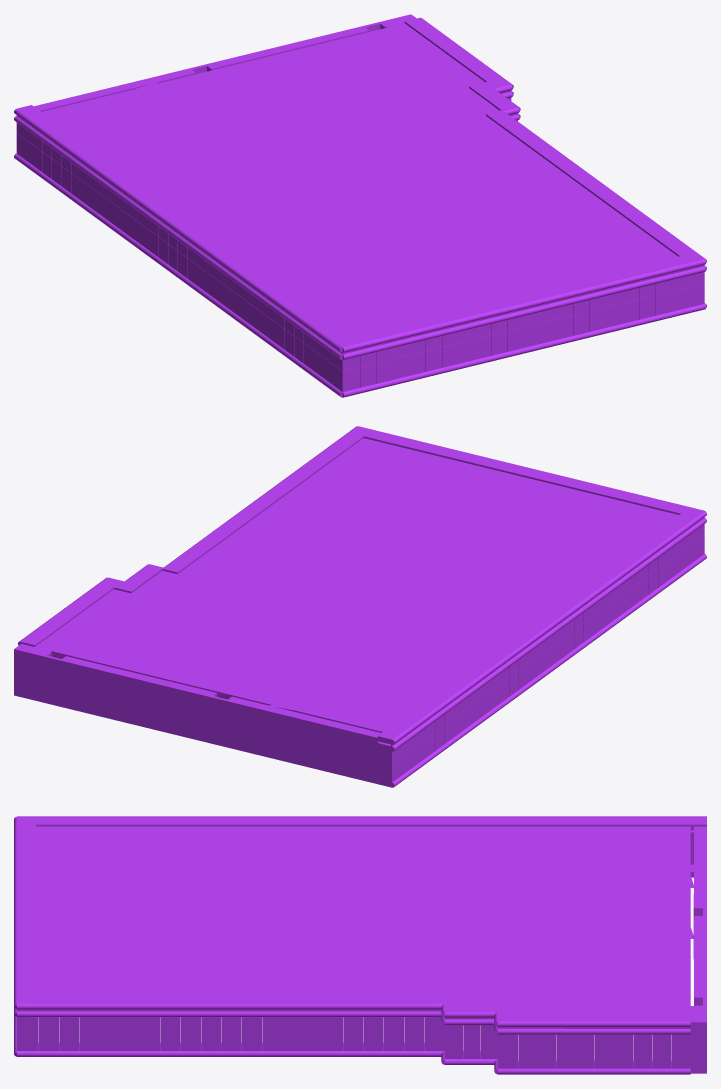
File: top.fbx
The picture shows the model from 3 angles, top to bottom: view 1: azimuth 30°, elevation 25°; view 2: azimuth 150°, elevation 25°; view 3: azimuth 270°, elevation 25°; orthographic projection. The views are drawn at different scales.
Parts seen in each view (by area): view 1: 物件_208, 物件_202, 物件_15, 物件_17, 物件_209, 物件_7, 物件_14, 物件_203, 物件_204, 物件_19; view 2: 物件_208, 物件_209, 物件_202, 物件_15, 物件_17, 物件_203, 物件_204, 物件_19; view 3: 物件_208, 物件_202, 物件_17, 物件_15, 物件_209, 物件_12, 物件_19, 物件_5, 物件_3, 物件_10, 物件_18, 物件_130 (+30 smaller).
Boxes of the visible parts, bbox=[...] form: 物件_208: bbox=[42, 23, 704, 353]; 物件_202: bbox=[14, 105, 355, 352]; 物件_15: bbox=[334, 252, 705, 352]; 物件_17: bbox=[486, 110, 705, 262]; 物件_209: bbox=[34, 14, 416, 111]; 物件_7: bbox=[342, 304, 705, 397]; 物件_14: bbox=[342, 266, 705, 359]; 物件_203: bbox=[14, 116, 342, 359]; 物件_204: bbox=[14, 153, 342, 397]; 物件_19: bbox=[404, 17, 513, 88]; 物件_208: bbox=[35, 438, 678, 732]; 物件_209: bbox=[14, 644, 381, 783]; 物件_202: bbox=[377, 511, 706, 744]; 物件_15: bbox=[349, 426, 705, 517]; 物件_17: bbox=[162, 426, 371, 574]; 物件_203: bbox=[377, 518, 706, 751]; 物件_204: bbox=[377, 554, 706, 787]; 物件_19: bbox=[18, 577, 121, 646]; 物件_208: bbox=[36, 826, 690, 1028]; 物件_202: bbox=[17, 816, 706, 830]; 物件_17: bbox=[17, 995, 447, 1009]; 物件_15: bbox=[14, 816, 36, 1005]; 物件_209: bbox=[690, 826, 706, 1073]; 物件_12: bbox=[17, 1011, 441, 1017]; 物件_19: bbox=[497, 1013, 690, 1026]; 物件_5: bbox=[17, 1043, 443, 1056]; 物件_3: bbox=[497, 1061, 690, 1074]; 物件_10: bbox=[497, 1028, 690, 1034]; 物件_18: bbox=[444, 1004, 497, 1017]; 物件_130: bbox=[424, 1029, 444, 1050].
Size of the model in its own units: 1186 by 142 by 1677.
